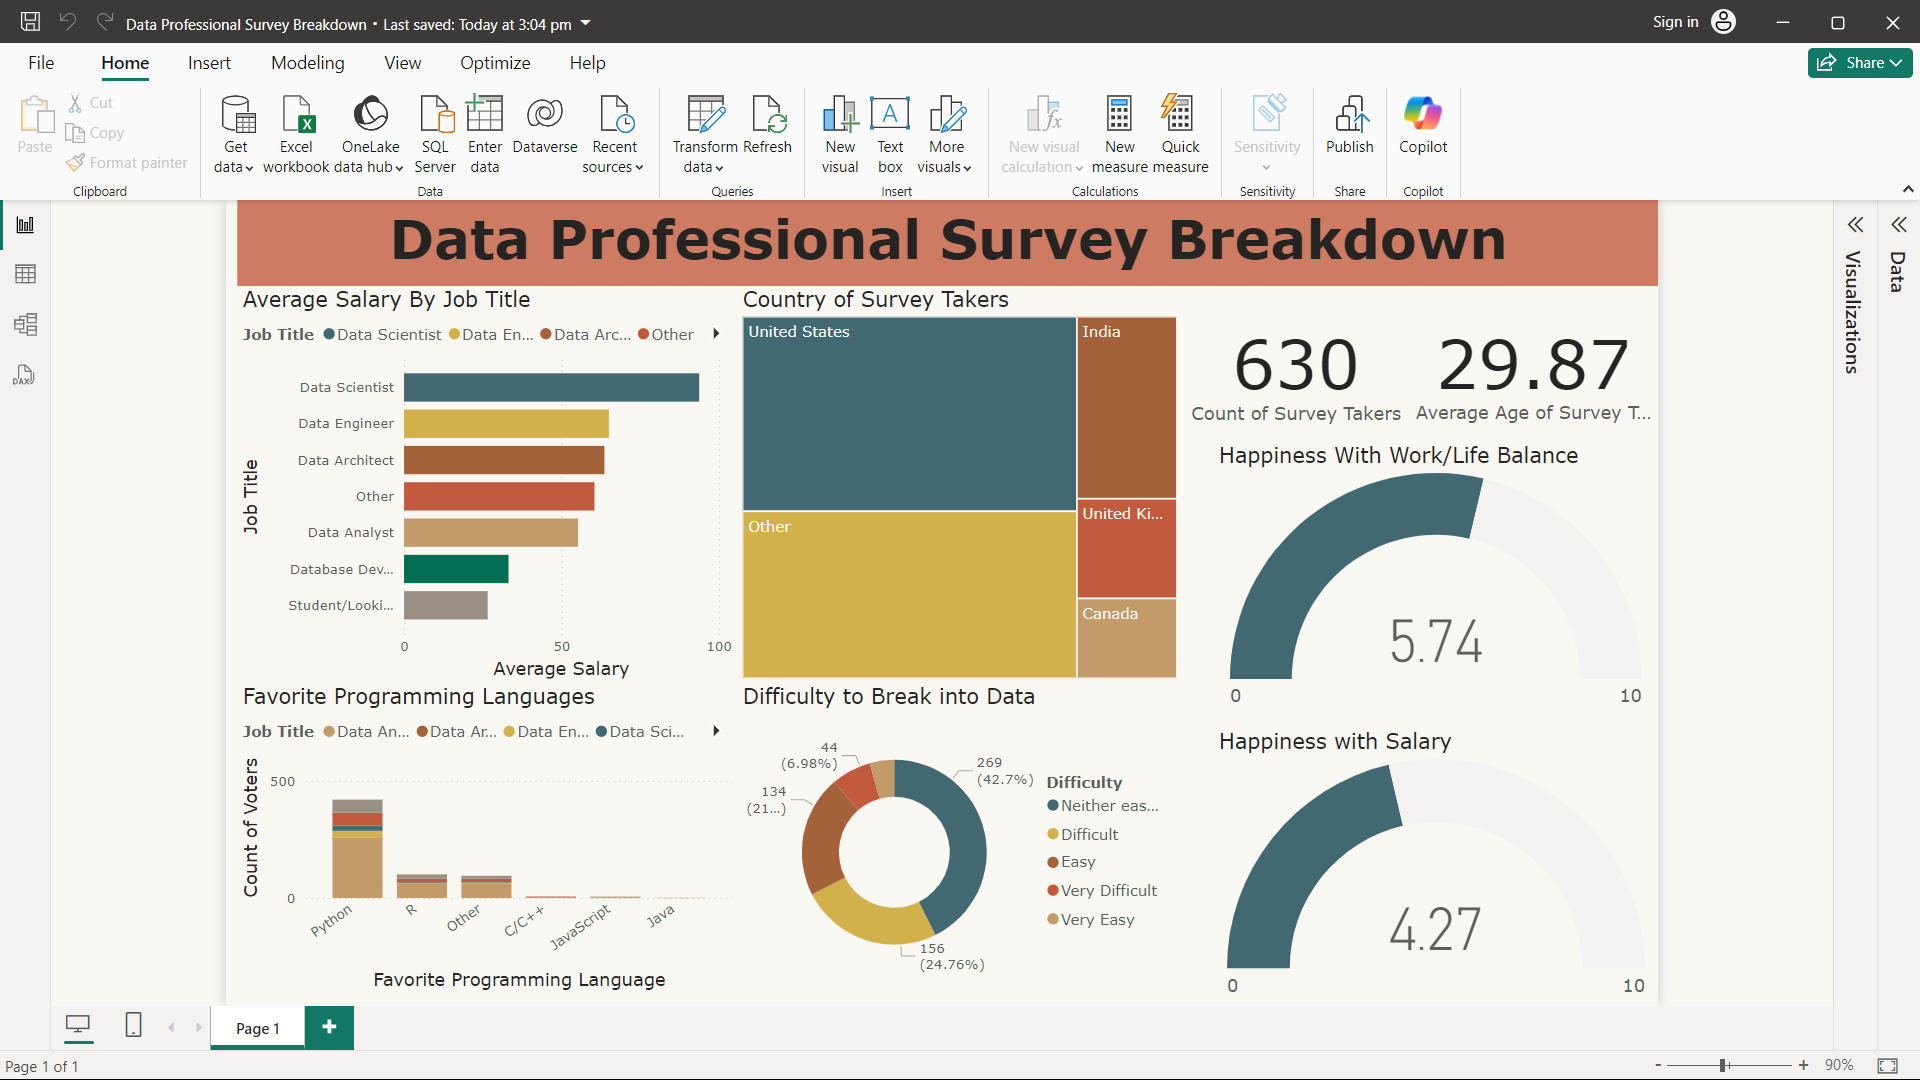

The page's visual inventory and layout, read from the dashboard file:
{"tool":"powerbi","page":{"name":"Page 1","canvas":[1280,720],"ordinal":0},"visuals":[{"type":"textbox","box":[9.6,0,1270.7,76.8],"z":0},{"type":"card","fields":{"Values":["Count(Data Professional Survey.Unique ID)"]},"box":[854.9,78.2,201.7,149.6],"z":1},{"type":"card","fields":{"Values":["Avg(Data Professional Survey.Q10 - Current Age)"]},"box":[1056.6,76.8,223.7,150.9],"z":2},{"type":"barChart","title":"Average Salary By Job Title","fields":{"Category":["Data Professional Survey.Q1 - Which Title Best Fits your Current Role?.1"],"Y":["Avg(Data Professional Survey.Average Salary)"],"Series":["Data Professional Survey.Q1 - Which Title Best Fits your Current Role?.1"]},"box":[9.6,76.8,447.3,355.4],"z":3},{"type":"columnChart","title":"Favorite Programming Languages","fields":{"Category":["Data Professional Survey.Q5 - Favorite Programming Language.1"],"Series":["Data Professional Survey.Q1 - Which Title Best Fits your Current Role?.1"],"Y":["CountNonNull(Data Professional Survey.Q1 - Which Title Best Fits your Current Role?.1)"]},"box":[9.6,432.2,447.3,278.6],"z":4},{"type":"treemap","title":"Country of Survey Takers","fields":{"Group":["Data Professional Survey.Q11 - Which Country do you live in?.1"],"Values":["CountNonNull(Data Professional Survey.Q11 - Which Country do you live in?.1)"]},"box":[456.9,76.8,397.9,355.4],"z":5},{"type":"gauge","title":"Happiness With Work/Life Balance","fields":{"Y":["Avg(Data Professional Survey.Q6 - How Happy are you in your Current Position with the following? (Work/Life Balance))"],"MinValue":["Min(Data Professional Survey.Q6 - How Happy are you in your Current Position with the following? (Work/Life Balance))1"],"MaxValue":["Max(Data Professional Survey.Q6 - How Happy are you in your Current Position with the following? (Work/Life Balance))"]},"box":[882.3,216.8,397.9,245.6],"z":6},{"type":"gauge","title":"Happiness with Salary","fields":{"MinValue":["Min(Data Professional Survey.Q6 - How Happy are you in your Current Position with the following? (Salary))"],"MaxValue":["Max(Data Professional Survey.Q6 - How Happy are you in your Current Position with the following? (Salary))"],"Y":["Avg(Data Professional Survey.Q6 - How Happy are you in your Current Position with the following? (Salary))"]},"box":[882.3,472,397.9,248.4],"z":7},{"type":"donutChart","title":"Difficulty to Break into Data","fields":{"Category":["Data Professional Survey.Q7 - How difficult was it for you to break into Data?"],"Y":["CountNonNull(Data Professional Survey.Q7 - How difficult was it for you to break into Data?)"]},"box":[457,432,398,279],"z":8}]}

Visuals, with their boxes on the page's 1280x720 design canvas (x1, y1, x2, y2). These are canvas units, not pixel positions in the 1920x1080 screenshot, which may show the page scaled, cropped or inside an application window:
textbox: 10:0:1280:77
card - Count(Data Professional Survey.Unique ID): 855:78:1057:228
card - Avg(Data Professional Survey.Q10 - Current Age): 1057:77:1280:228
"Average Salary By Job Title" barChart: 10:77:457:432
"Favorite Programming Languages" columnChart: 10:432:457:711
"Country of Survey Takers" treemap: 457:77:855:432
"Happiness With Work/Life Balance" gauge: 882:217:1280:462
"Happiness with Salary" gauge: 882:472:1280:720
"Difficulty to Break into Data" donutChart: 457:432:855:711
